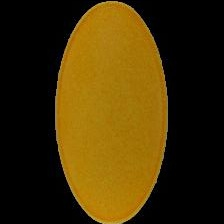16590-211: (0, 0, 224, 224)
